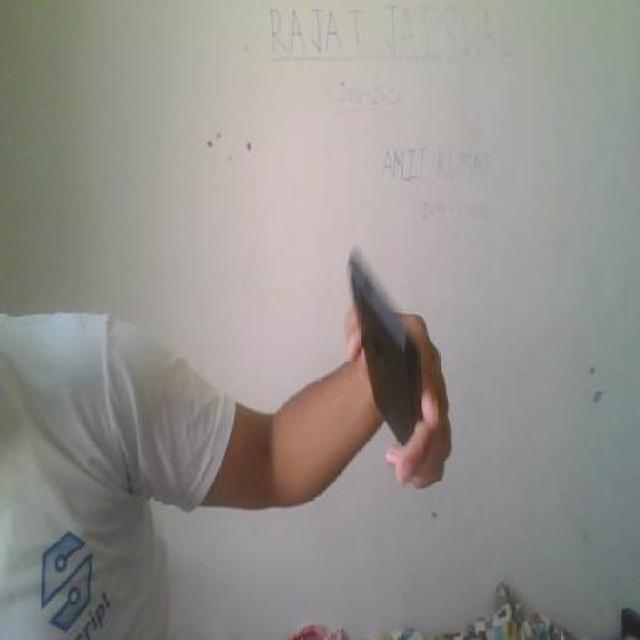Phone: (342, 247, 423, 449)
